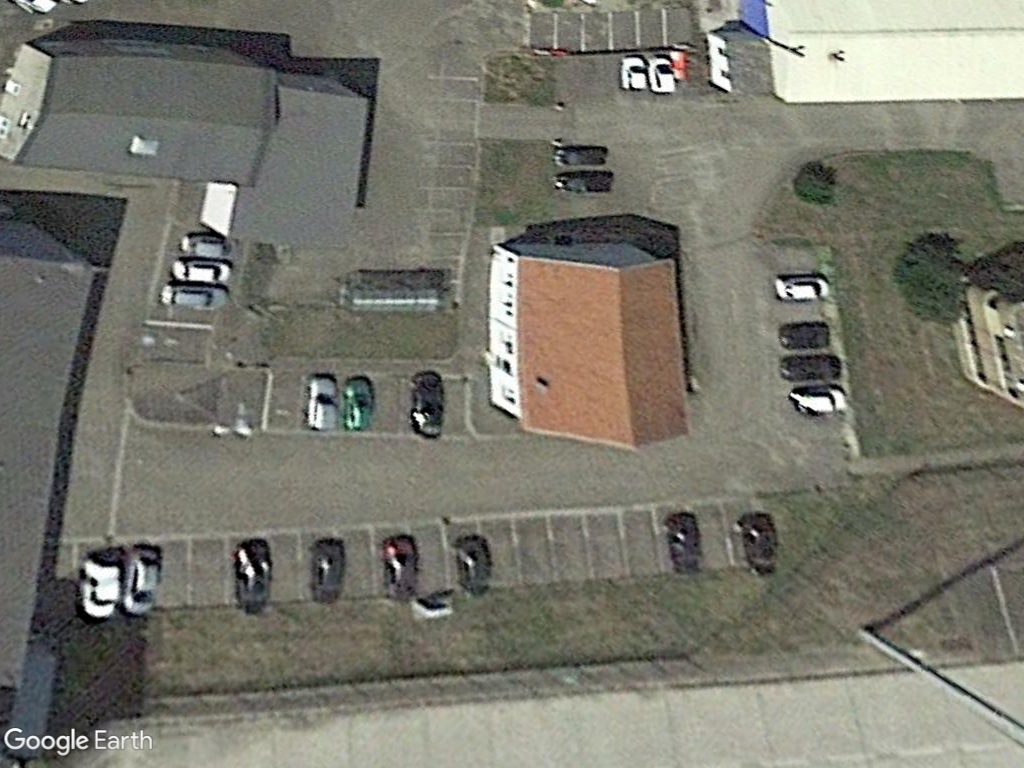car: (768, 270, 834, 303), (168, 254, 234, 287)
